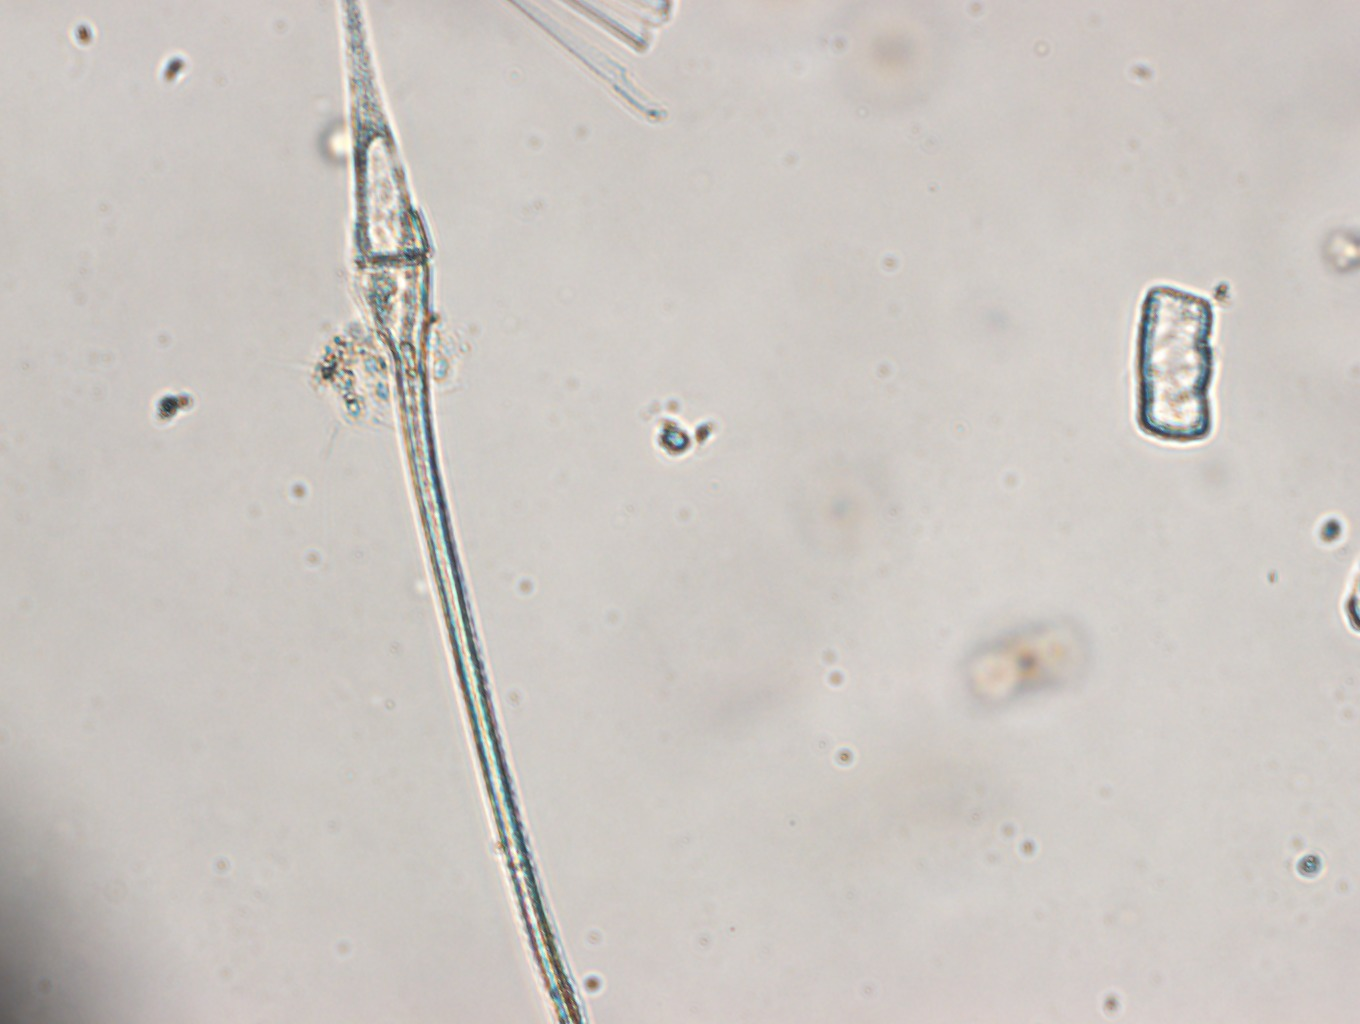ceratium fusus: (326, 6, 601, 1024)
